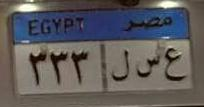3: (69, 47, 91, 84), (49, 48, 68, 85), (27, 51, 47, 86)
ain: (164, 45, 185, 83)
laam: (111, 46, 130, 83)
seen: (135, 50, 161, 80)
